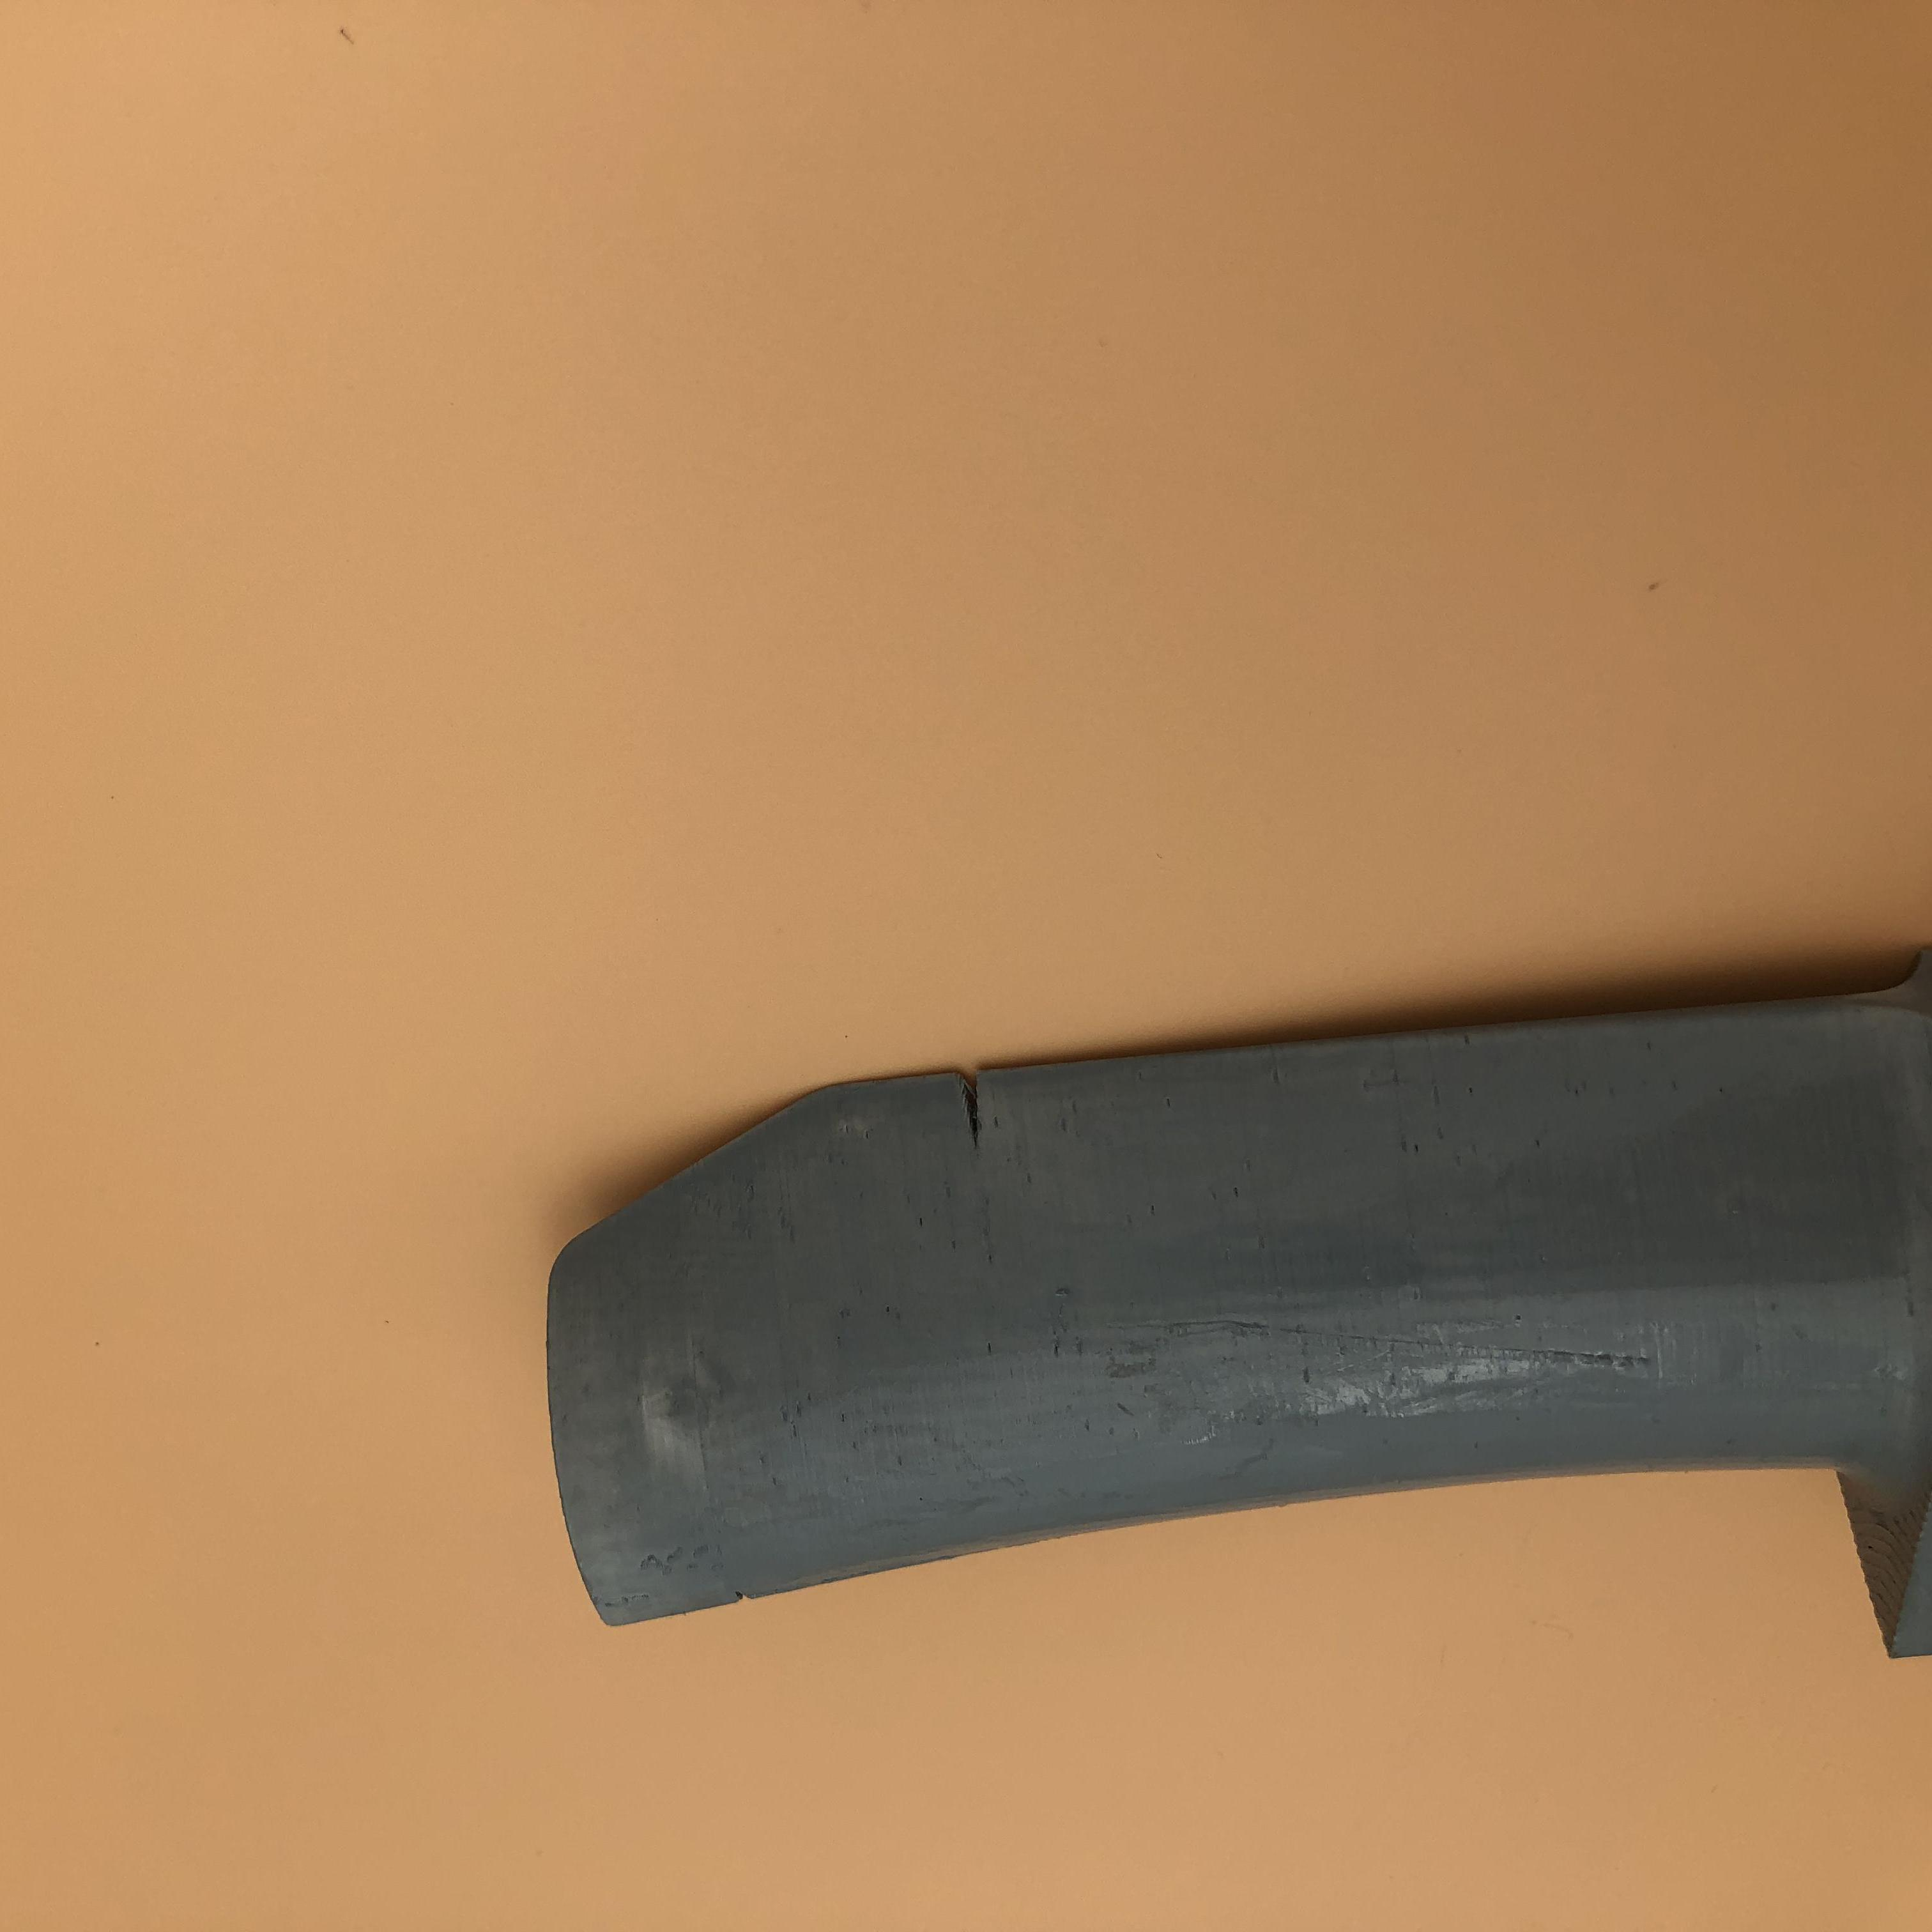groove: (955, 1069, 1005, 1164)
